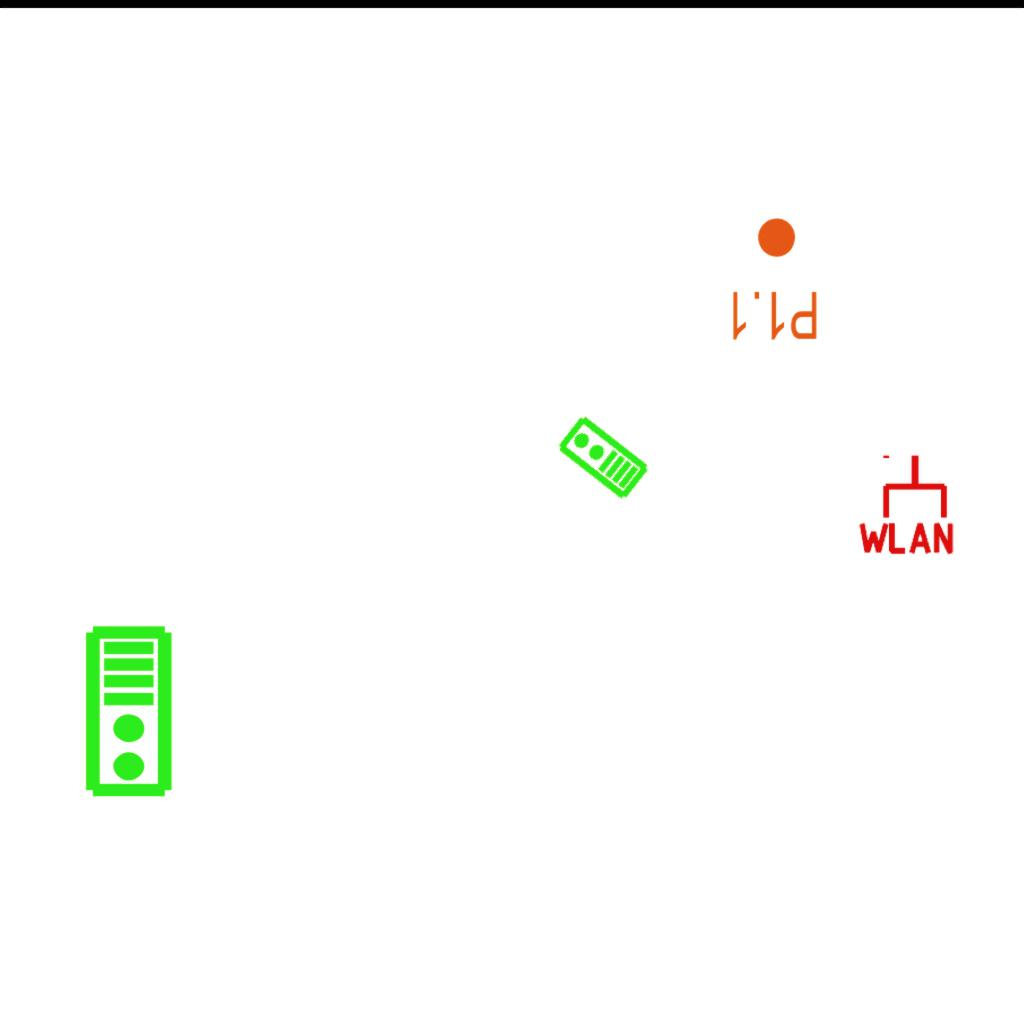Downlight_LED_Einbauleuchten_Flur: (727, 215, 820, 343)
Gegensprechanlage_mit_Video: (83, 624, 178, 800), (553, 412, 652, 504)
WLAN: (854, 451, 958, 556)
